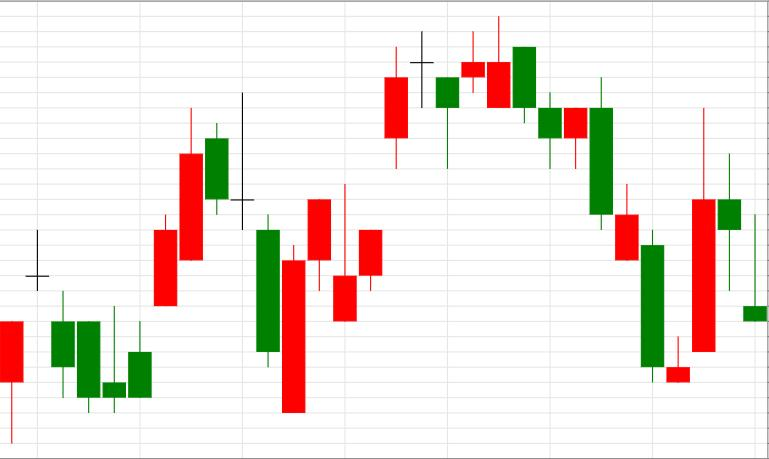evening_star_fall: (334, 31, 459, 321)
morning_star_rise: (513, 47, 716, 383)
